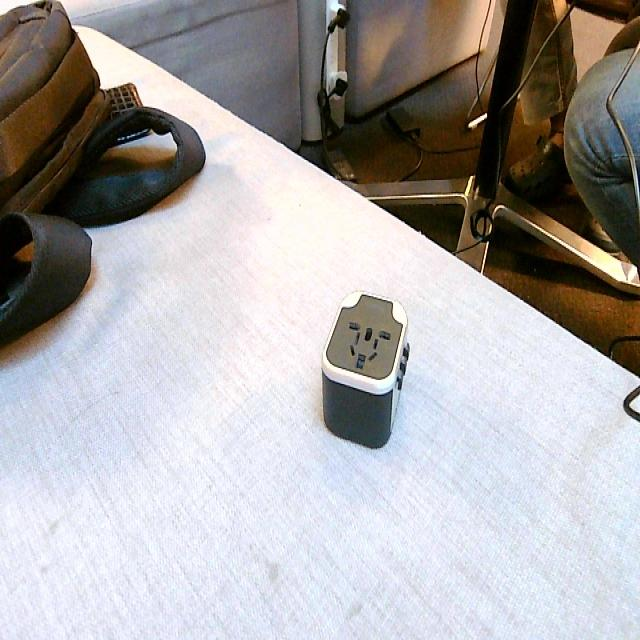adapter: (320, 289, 410, 448)
